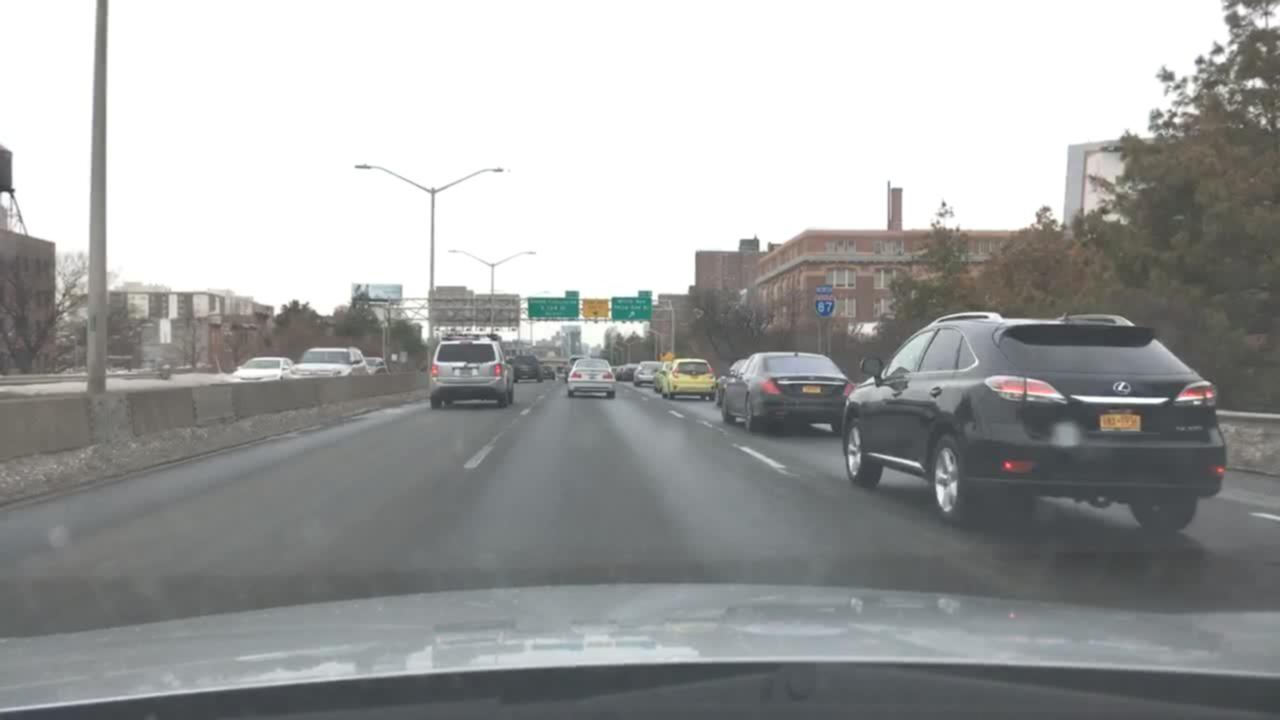lexus: (1102, 372, 1144, 400)
